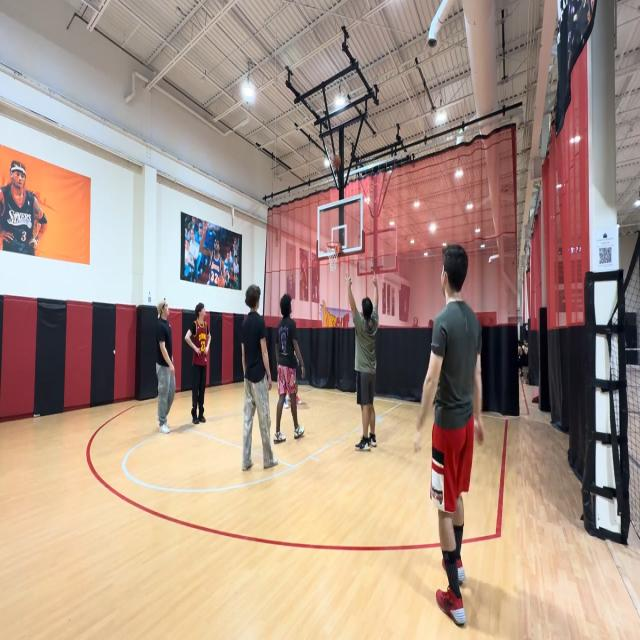Basketball: (334, 154, 342, 170)
Basketball Rim: (327, 240, 341, 272)
